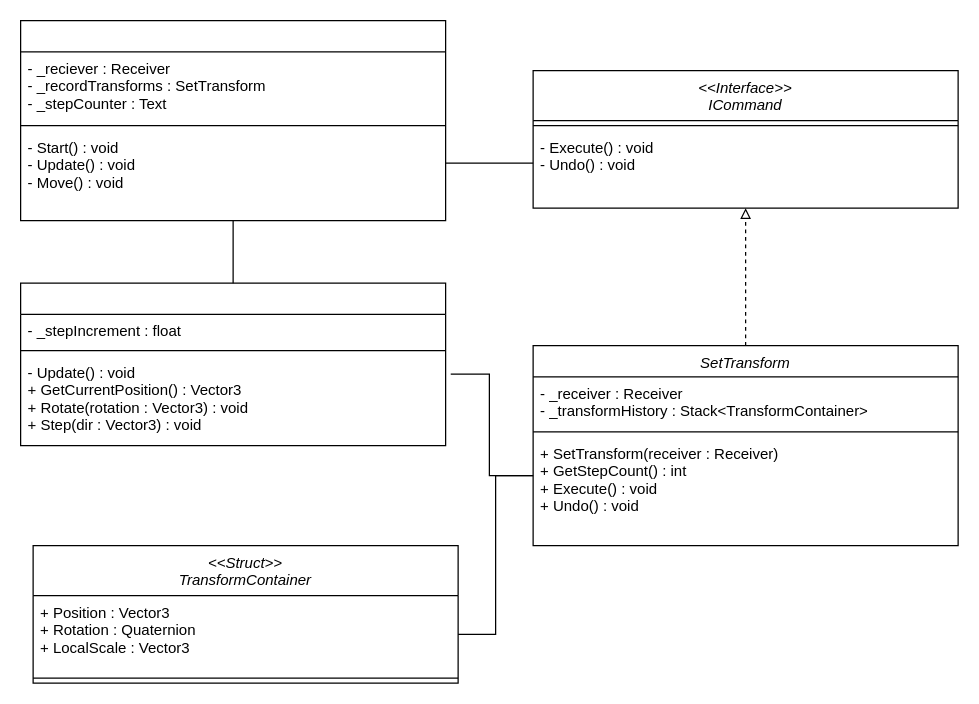
Image size: 979x704. Some labels were removed from this diagram. Each missing label, with the box of its shape:
PlayerInputManagerInvoker: (19, 19, 446, 221)
Receiver: (19, 282, 446, 446)
